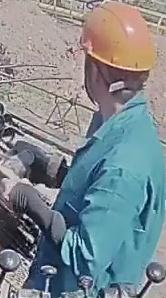gloves: (11, 139, 68, 190)
helmet: (81, 0, 157, 72)
vest: (50, 95, 165, 293)
